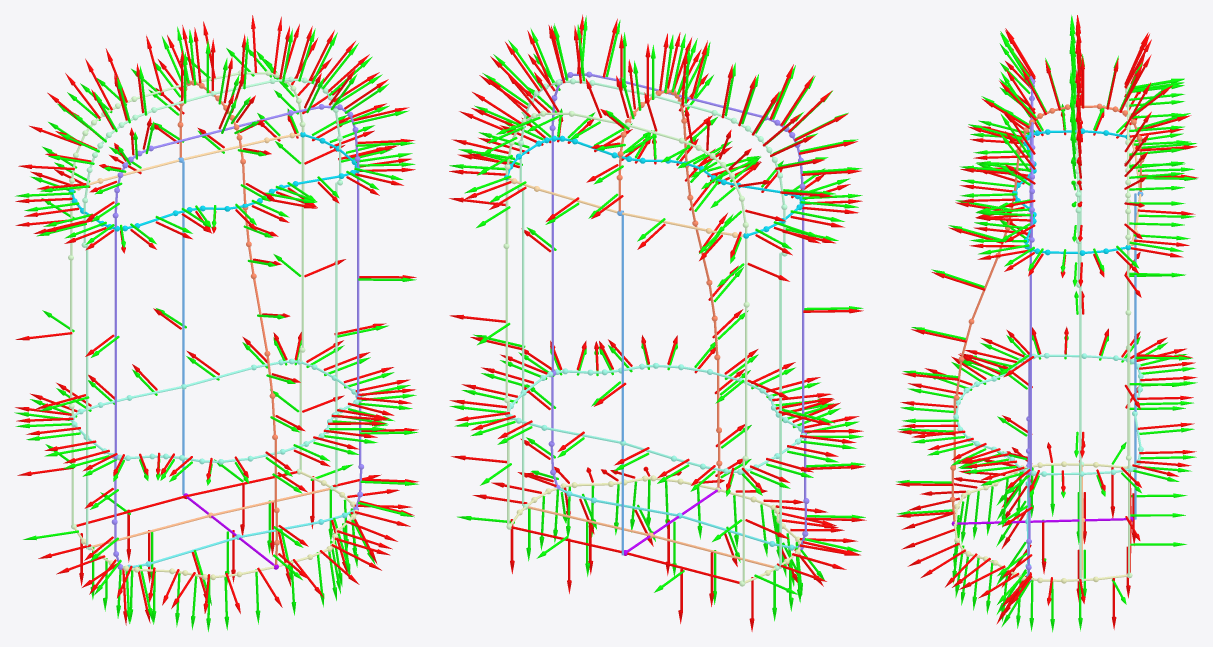
3 renders of one model, left to right at view 1: azimuth 30°, elevation 25°; view 2: azimuth 150°, elevation 25°; view 3: azimuth 270°, elevation 25°, orthographic. The views are drawn at different scales.
Bounding box in the file's own units: 0.6983 × 0.9951 × 0.525.
